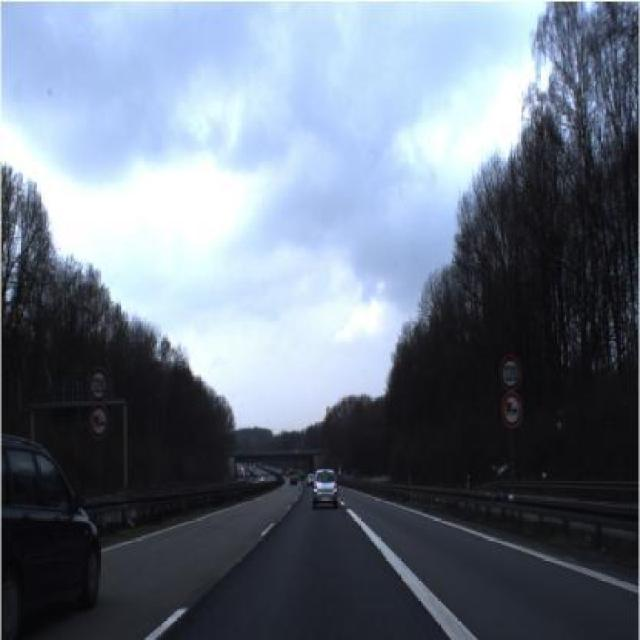forb_overtake_trucks: (85, 405, 114, 443), (499, 392, 523, 430)
forb_speed_over_120: (496, 350, 525, 392), (88, 363, 109, 403)
